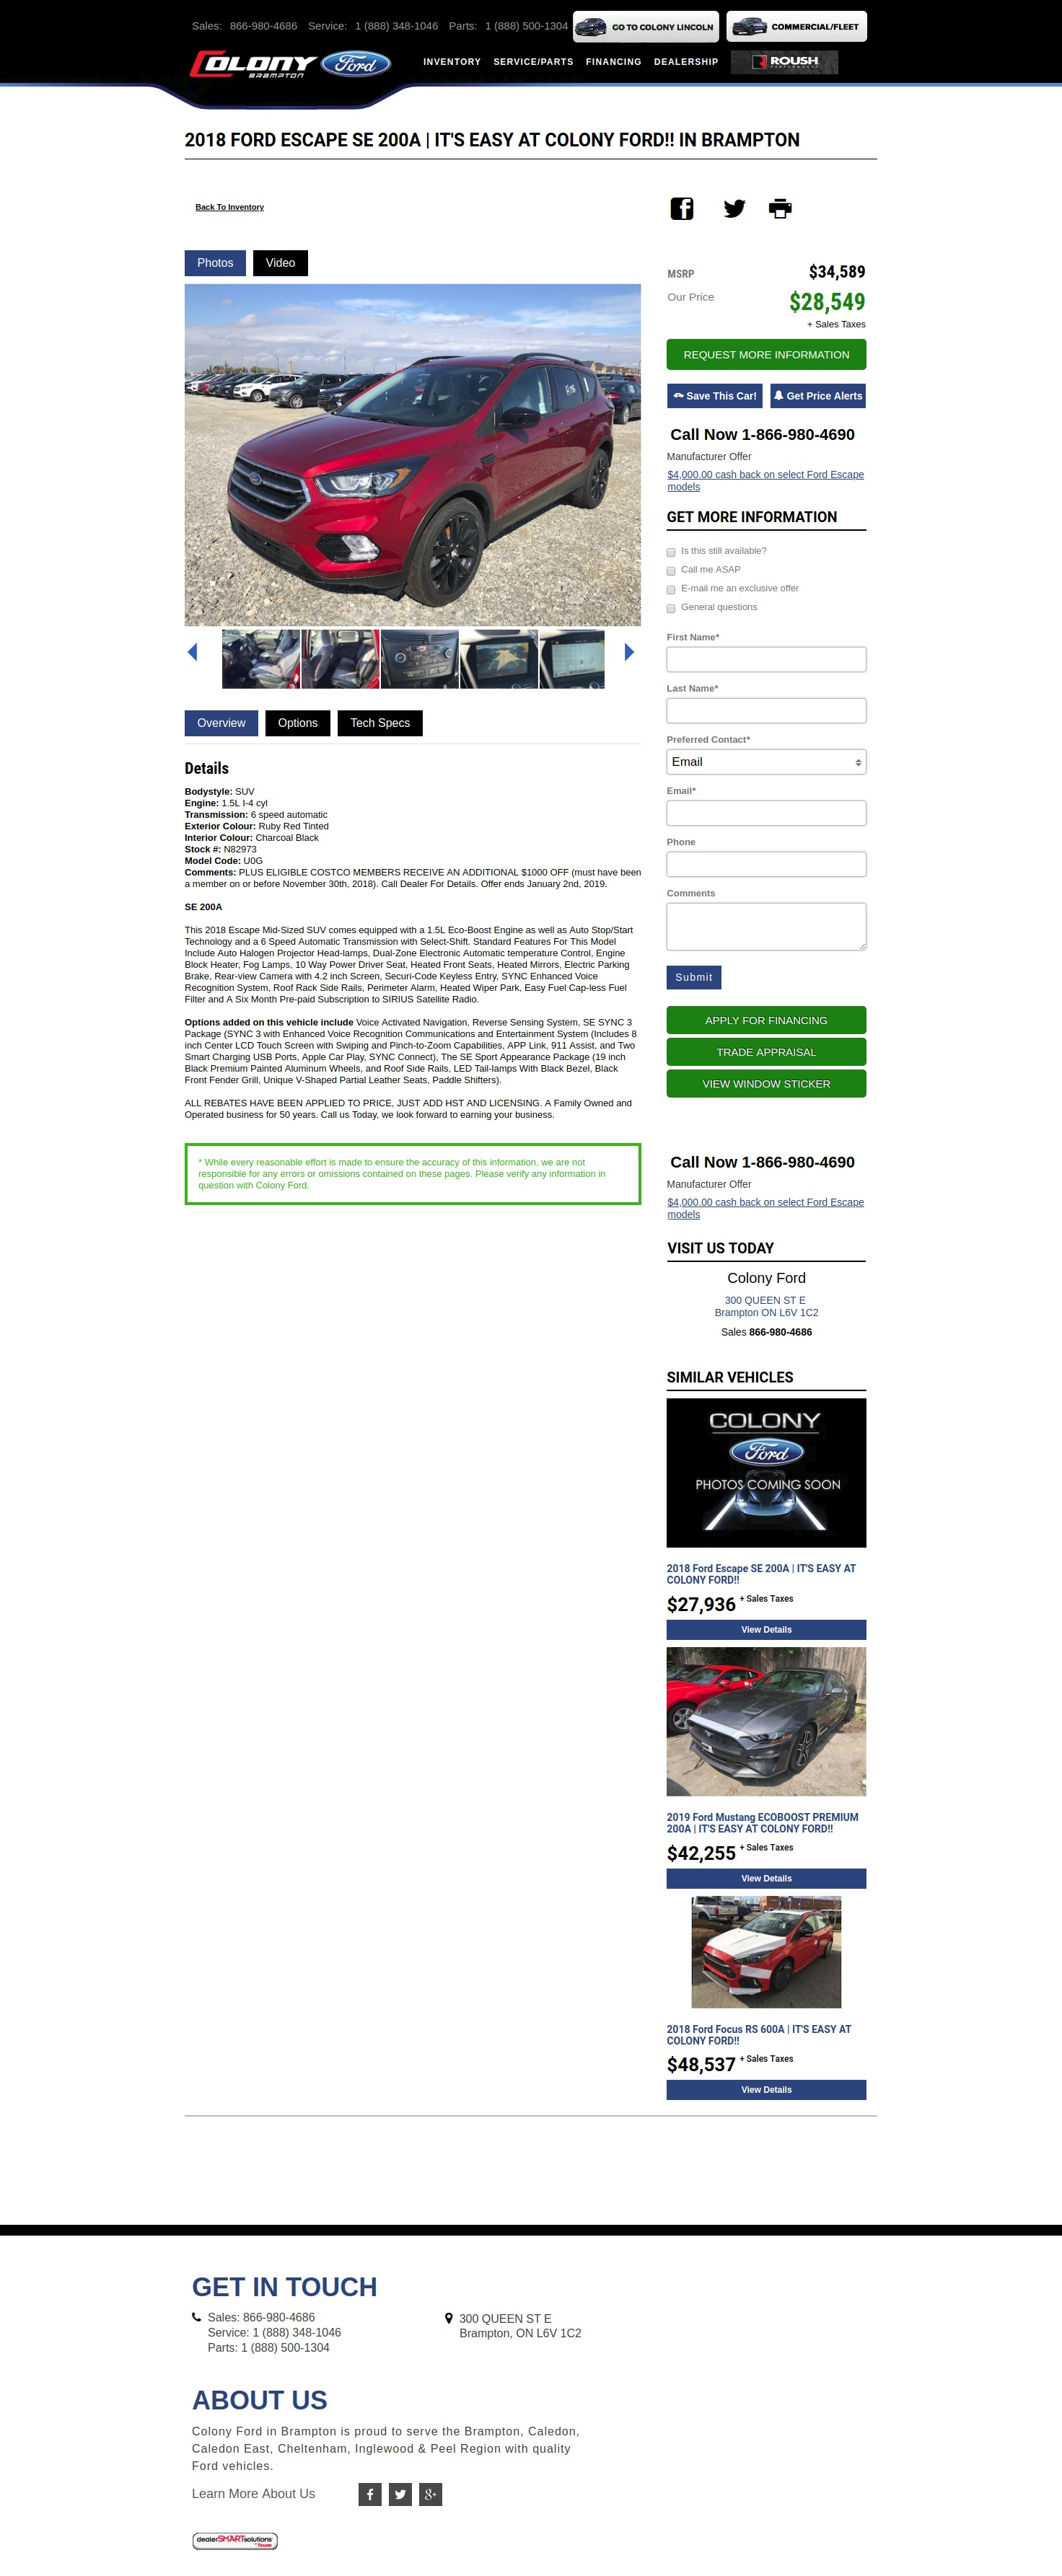car: (625, 644, 636, 662)
